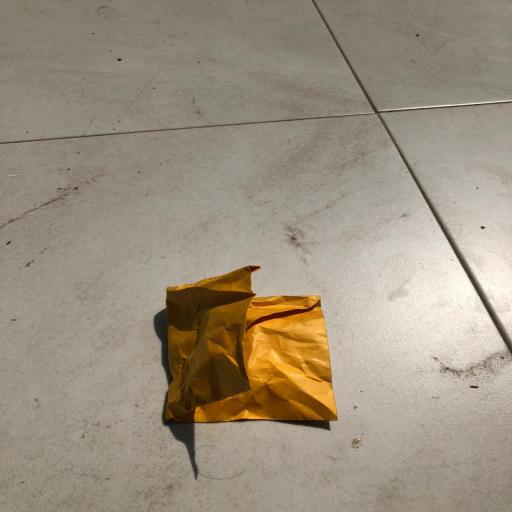waste: (148, 259, 347, 432)
